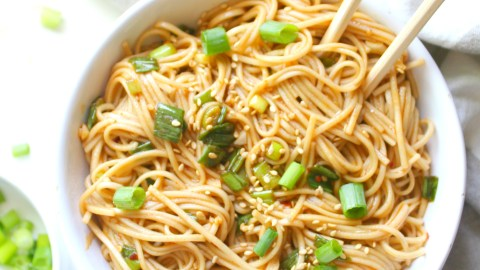Soba: (81, 3, 433, 270)
